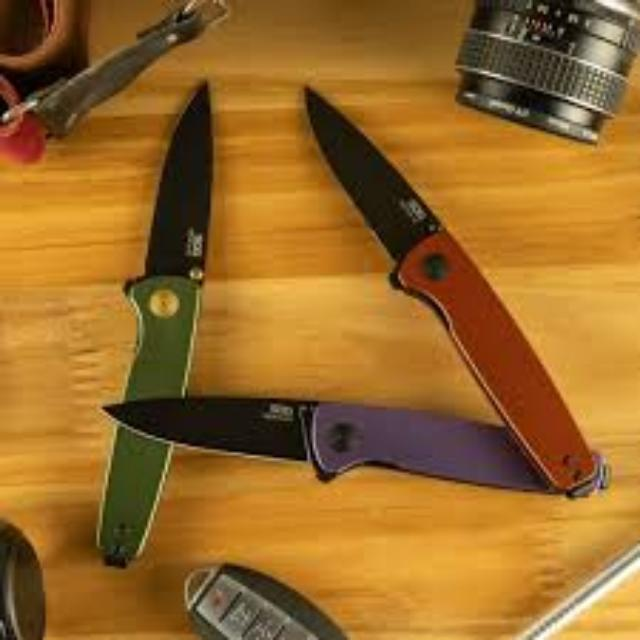knife: (302, 82, 608, 498), (94, 77, 214, 566), (97, 396, 563, 494)
